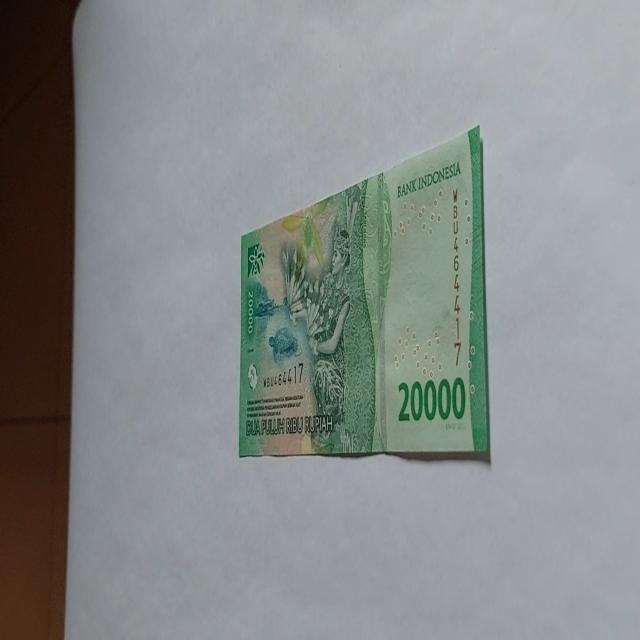dua puluh ribu rupiah: (238, 123, 490, 464), (280, 170, 393, 456)
